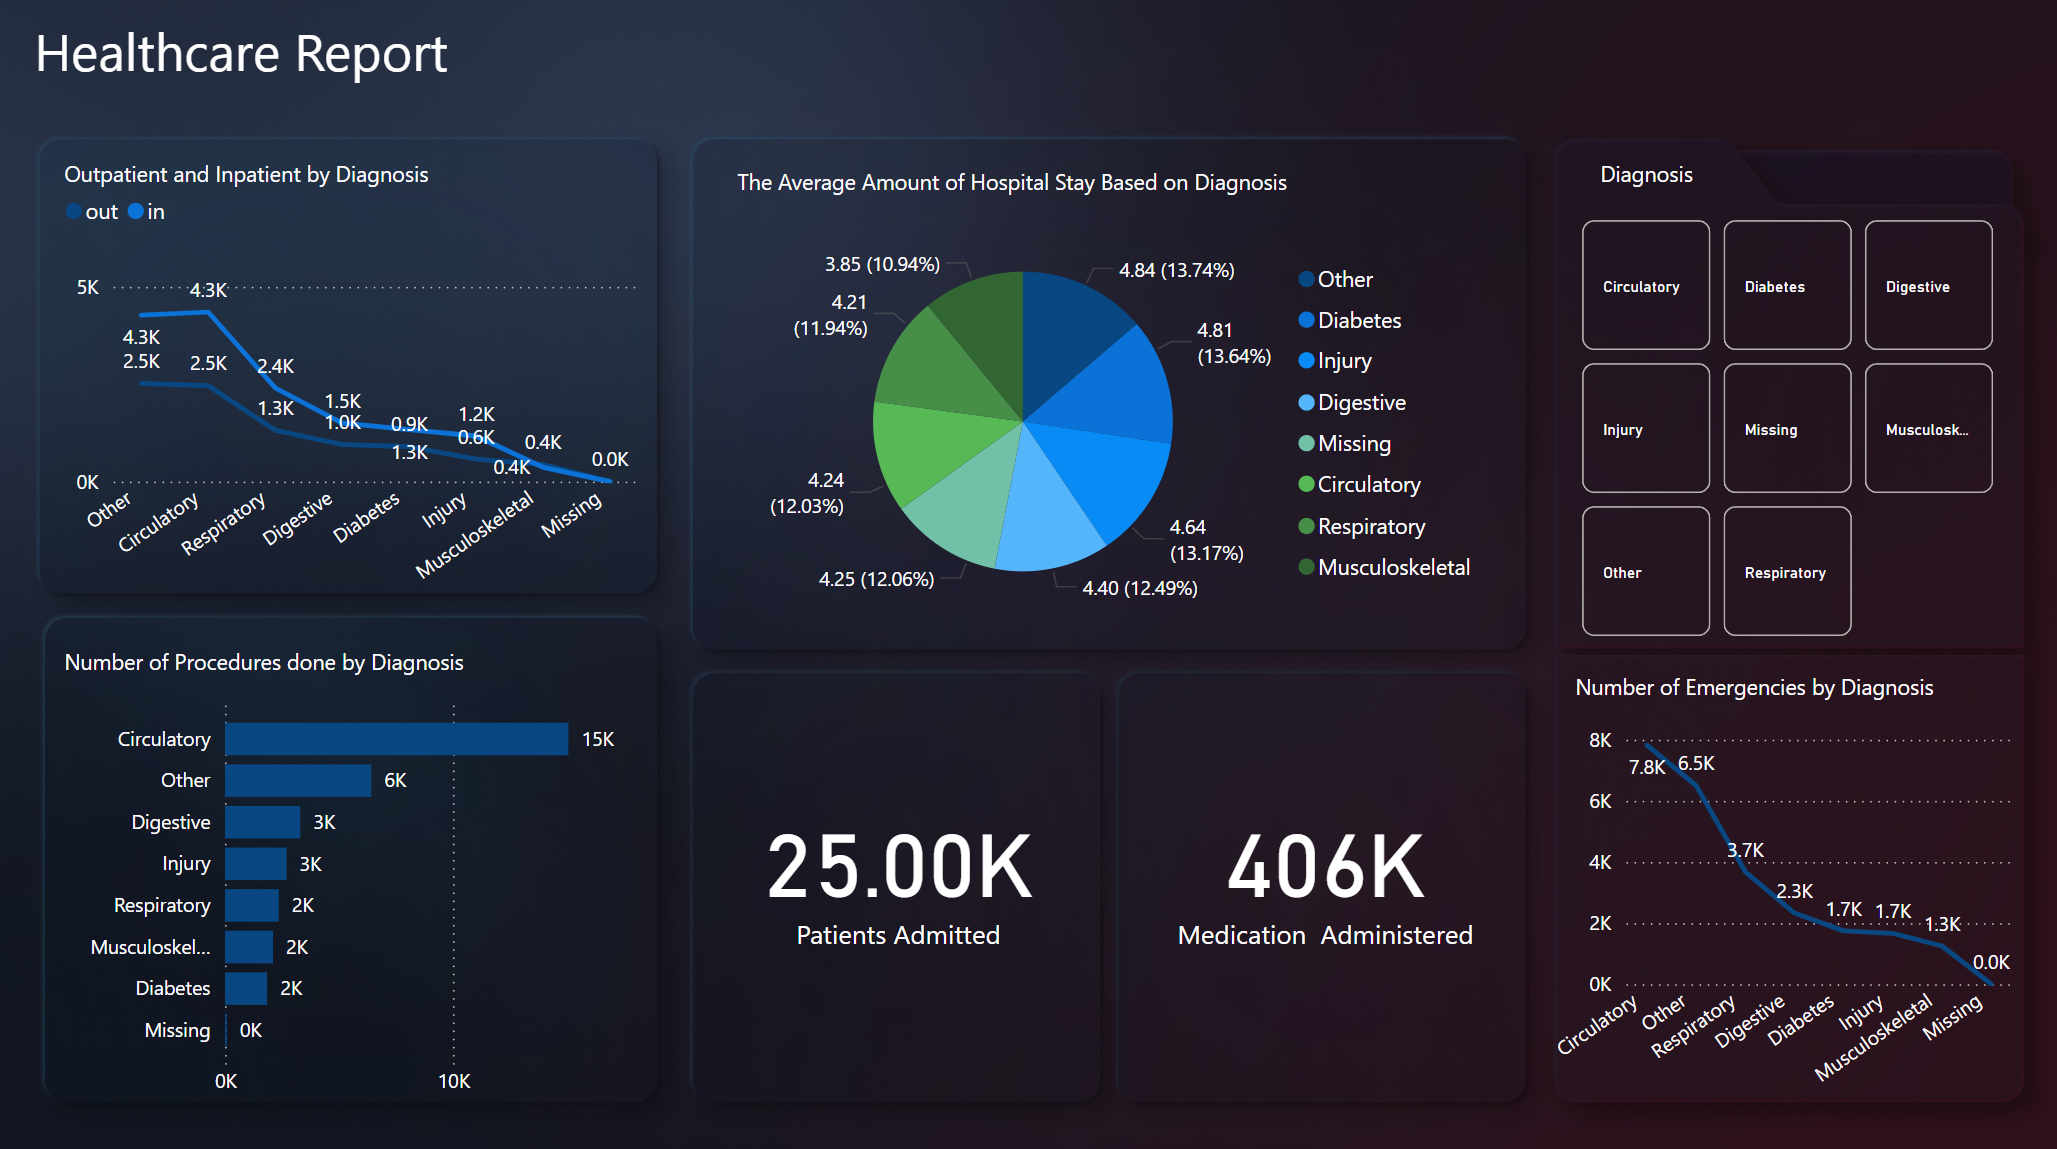

Layout of this report page (visuals, bound fields, positions):
{"tool":"powerbi","page":{"name":"Page 1","canvas":[1280,720],"ordinal":0},"visuals":[{"type":"textbox","box":[20,7.5,341.9,70.6],"z":0},{"type":"pieChart","fields":{"Category":["hospital_readmissions.diag_1"],"Y":["Avg(hospital_readmissions.time_in_hospital)"]},"box":[460.3,129.2,464,267.7],"z":1000},{"type":"lineChart","fields":{"Category":["hospital_readmissions.diag_1"],"Y":["Sum(hospital_readmissions.n_outpatient)","Sum(hospital_readmissions.n_inpatient)"]},"box":[38.8,113.2,362.5,262.2],"z":2000},{"type":"clusteredBarChart","fields":{"Category":["hospital_readmissions.diag_1"],"Y":["Sum(hospital_readmissions.n_procedures)"]},"box":[38.8,425.2,362.5,262.2],"z":3000},{"type":"lineChart","fields":{"Y":["CountNonNull(hospital_readmissions.n_emergency)"],"Category":["hospital_readmissions.diag_1"]},"box":[955.7,444.9,291.1,242.5],"z":4000},{"type":"card","fields":{"Values":["CountNonNull(hospital_readmissions.diag_1)"]},"box":[452.9,456,208.6,168.6],"z":5000},{"type":"card","fields":{"Values":["Sum(hospital_readmissions.n_medications)"]},"box":[715.7,456,208.6,168.6],"z":6000},{"type":"textbox","box":[38.8,96.6,293.5,32.6],"z":7000},{"type":"textbox","box":[452.9,101.5,451.7,32.6],"z":8000},{"type":"textbox","box":[968.6,412.3,263.4,32.6],"z":9000},{"type":"textbox","box":[38.8,396.9,323.7,32.6],"z":10000},{"type":"advancedSlicerVisual","fields":{"Values":["hospital_readmissions.diag_1"]},"box":[972.9,134.2,263.4,267.7],"z":11000},{"type":"textbox","box":[984,96.6,84.9,32.6],"z":12000}]}

Visuals, with their boxes in screenshot pixels (x1, y1, x2, y2), scaled from the page's 1280x720 canvas onto the 2057x1149 screenshot:
textbox: <region>32, 12, 582, 125</region>
pieChart - hospital_readmissions.diag_1 x Avg(hospital_readmissions.time_in_hospital): <region>740, 206, 1485, 633</region>
lineChart - hospital_readmissions.diag_1 x Sum(hospital_readmissions.n_outpatient): <region>62, 181, 645, 599</region>
clusteredBarChart - hospital_readmissions.diag_1 x Sum(hospital_readmissions.n_procedures): <region>62, 679, 645, 1097</region>
lineChart - CountNonNull(hospital_readmissions.n_emergency) x hospital_readmissions.diag_1: <region>1536, 710, 2004, 1097</region>
card - CountNonNull(hospital_readmissions.diag_1): <region>728, 728, 1063, 997</region>
card - Sum(hospital_readmissions.n_medications): <region>1150, 728, 1485, 997</region>
textbox: <region>62, 154, 534, 206</region>
textbox: <region>728, 162, 1454, 214</region>
textbox: <region>1557, 658, 1980, 710</region>
textbox: <region>62, 633, 583, 685</region>
advancedSlicerVisual - hospital_readmissions.diag_1: <region>1563, 214, 1987, 641</region>
textbox: <region>1581, 154, 1718, 206</region>
